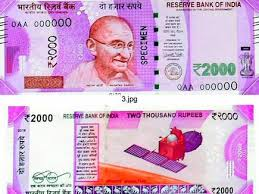twoThousand: (15, 14, 246, 84)
